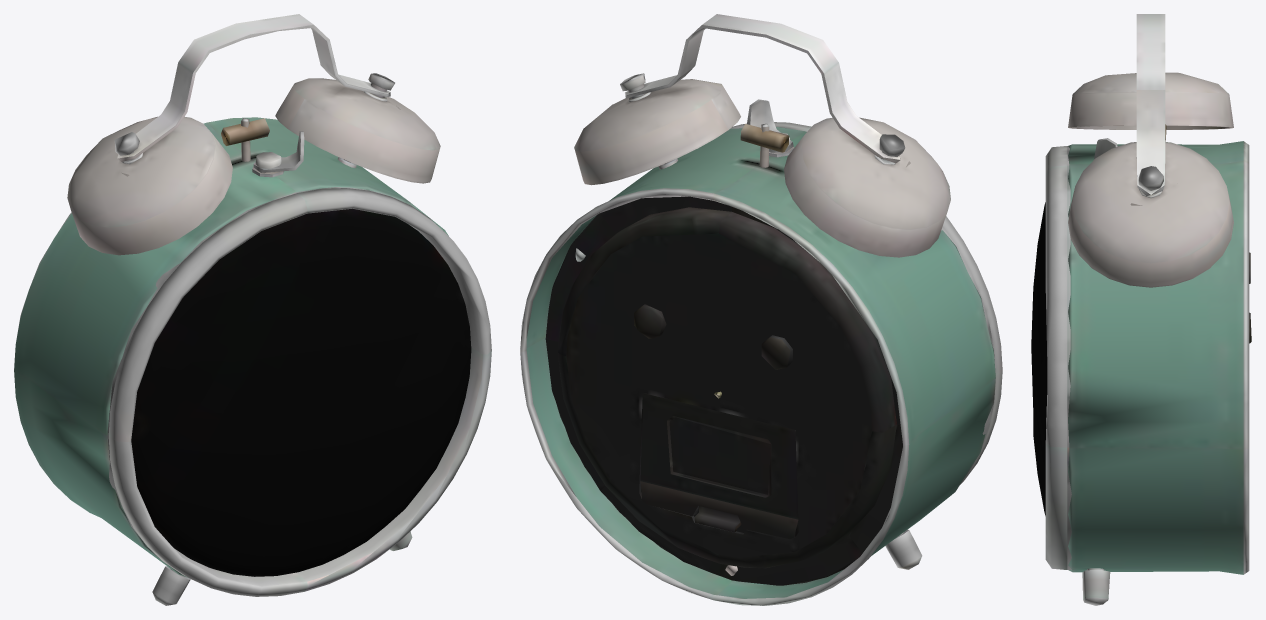
File: alarm_clock.glb
The picture shows the model from 3 angles, left to right: view 1: azimuth 30°, elevation 25°; view 2: azimuth 150°, elevation 25°; view 3: azimuth 270°, elevation 25°; orthographic projection. The views are drawn at different scales.
Visible parts, largest first — view 1: alarm_clock_01; view 2: alarm_clock_01; view 3: alarm_clock_01.
Part boxes in pixels (left/top/right/bottom): alarm_clock_01: left=14, top=14, right=491, bottom=605; alarm_clock_01: left=520, top=14, right=1002, bottom=605; alarm_clock_01: left=1031, top=14, right=1251, bottom=605.
Size of the model in its own units: 0.1312 by 0.1738 by 0.0666.
Materials: 2 (2 with a texture image).
